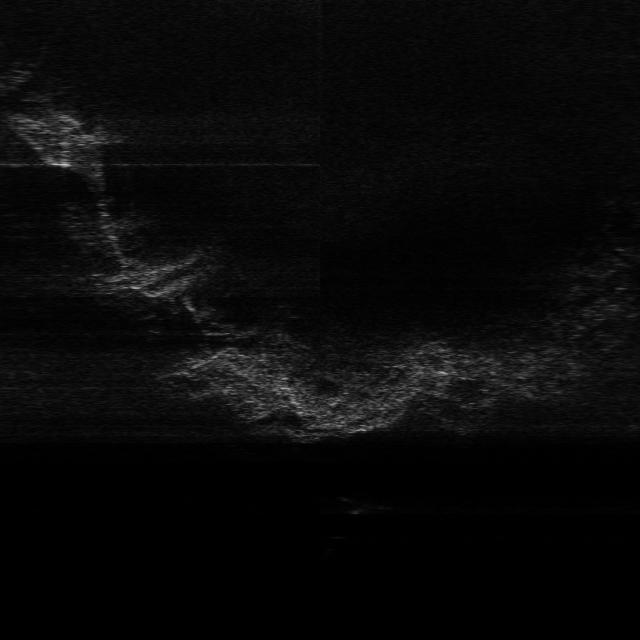plane: (338, 491, 401, 518)
